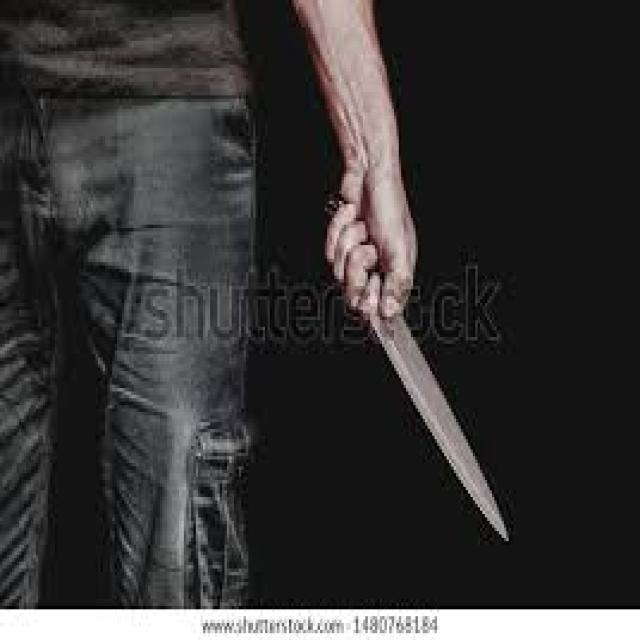faca: (315, 153, 518, 552)
